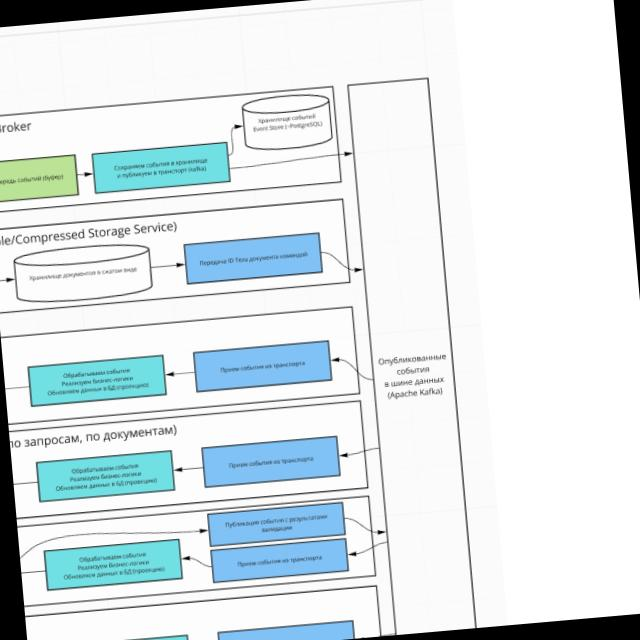arrow: (229, 148, 353, 169), (330, 352, 372, 384), (321, 246, 364, 276), (344, 512, 386, 538), (346, 538, 388, 558), (225, 122, 245, 156), (180, 550, 212, 570), (338, 444, 379, 458), (150, 260, 185, 270), (164, 367, 195, 378), (172, 464, 204, 474), (76, 170, 93, 178)
rectangle: (12, 248, 154, 306), (92, 142, 230, 193), (185, 233, 322, 284), (194, 341, 332, 391), (202, 437, 340, 487), (37, 451, 174, 501), (45, 540, 181, 590), (29, 356, 165, 406), (212, 539, 348, 583), (208, 503, 345, 546), (241, 99, 333, 153)
text_region: (376, 350, 452, 403)
